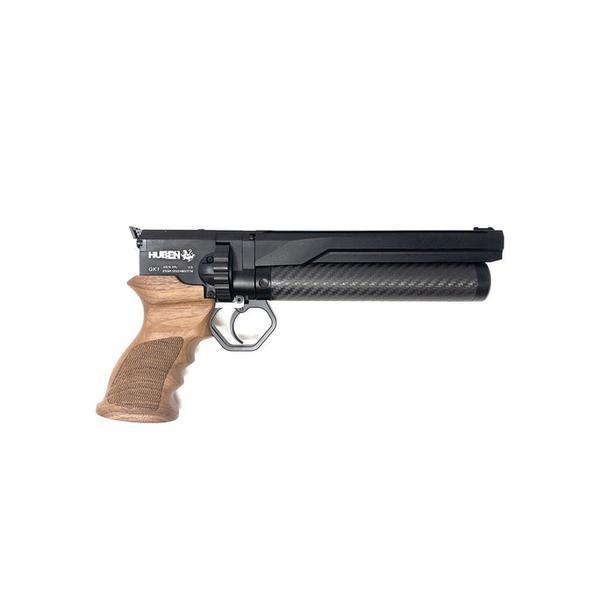Firearm: (92, 212, 563, 440)
